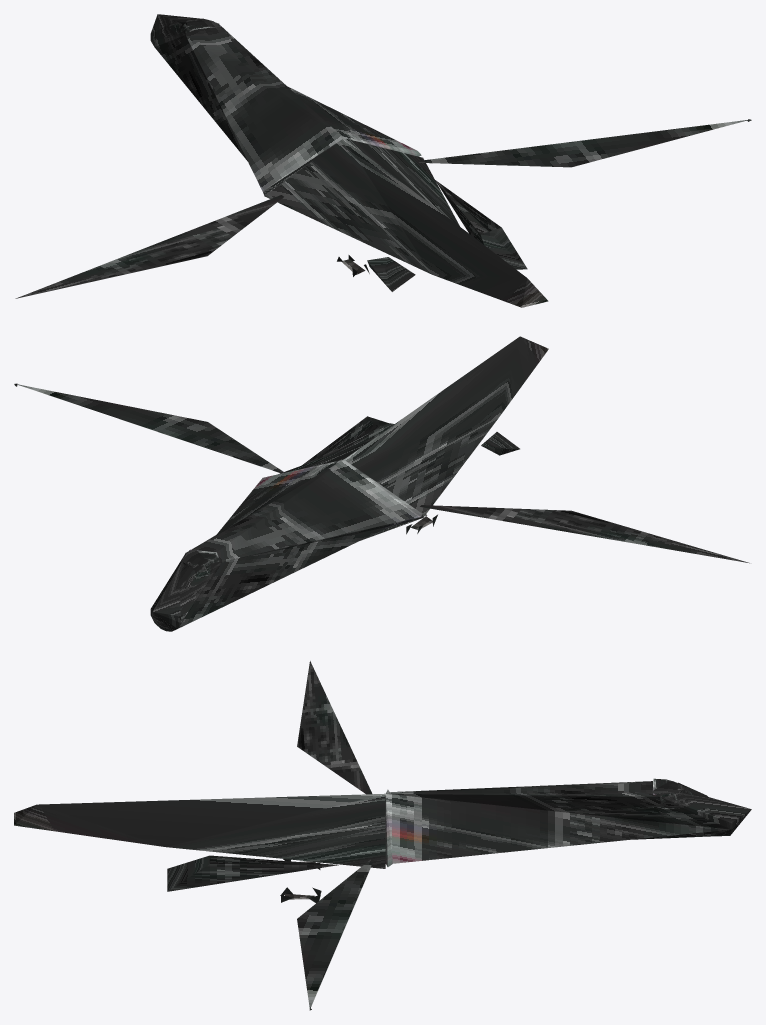
3 renders of one model, top to bottom at view 1: azimuth 30°, elevation 25°; view 2: azimuth 150°, elevation 25°; view 3: azimuth 270°, elevation 25°, orthographic. The views are drawn at different scales.
Parts seen in each view (by area): view 1: Object_2; view 2: Object_2; view 3: Object_2.
Boxes of the visible parts, box(x1,y1,x2,y2) form: Object_2: box(15, 14, 751, 307); Object_2: box(14, 336, 749, 631); Object_2: box(14, 661, 751, 1010).
Bounding box in the file's own units: 44.42 × 6.06 × 39.66.
1 material, 1 textured.
